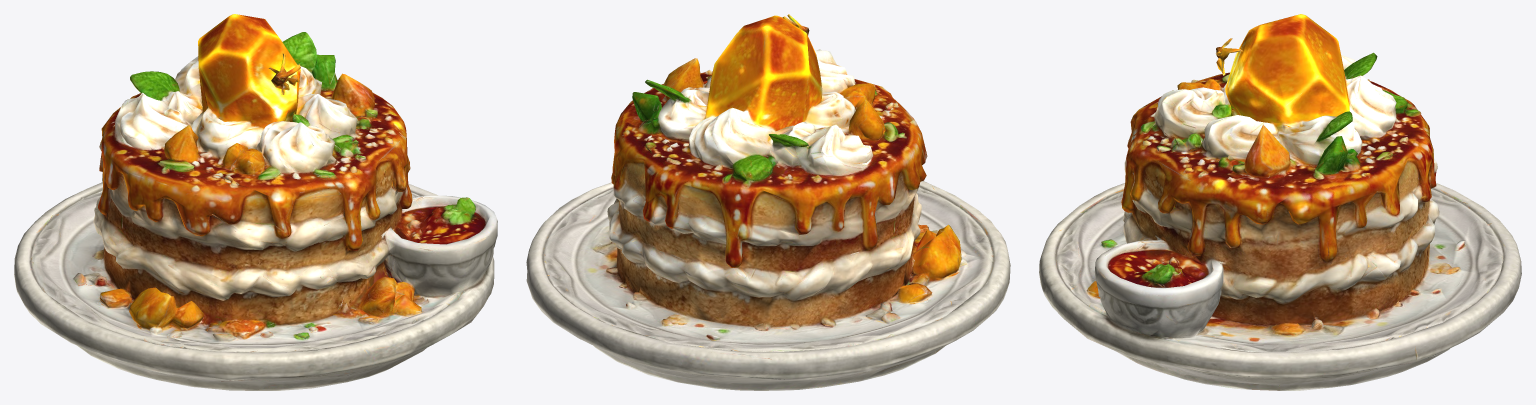
File: tart.glb
3 views of the same model, side by side, from view 1: azimuth 30°, elevation 25°; view 2: azimuth 150°, elevation 25°; view 3: azimuth 270°, elevation 25° (orthographic).
Visible parts, largest first — view 1: Mesh1.0; view 2: Mesh1.0; view 3: Mesh1.0.
Part boxes in pixels (left/top/right/bottom): Mesh1.0: left=14, top=14, right=497, bottom=390; Mesh1.0: left=526, top=14, right=1010, bottom=390; Mesh1.0: left=1039, top=14, right=1521, bottom=390.
Size of the model in its own units: 1.9 by 1.26 by 1.9.
1 material, 1 textured.
